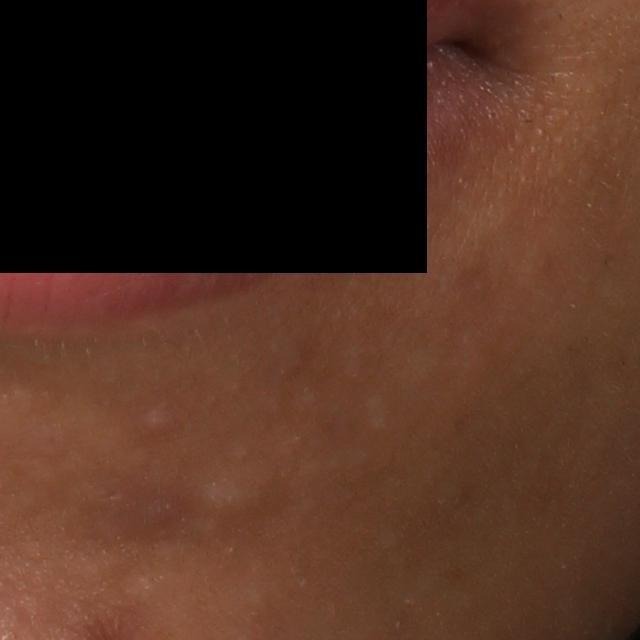comedo: (142, 402, 176, 440)
hypertrophic_scar: (185, 464, 282, 519), (359, 386, 398, 439)
